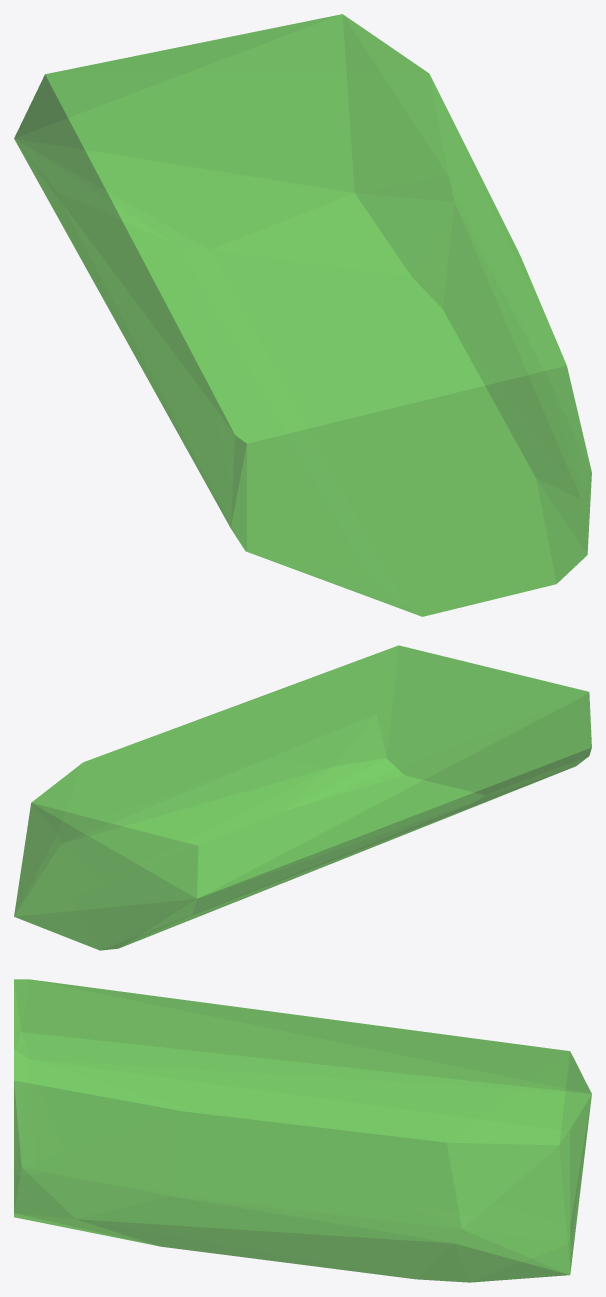
The picture shows the model from 3 angles, top to bottom: view 1: azimuth 30°, elevation 25°; view 2: azimuth 150°, elevation 25°; view 3: azimuth 270°, elevation 25°; orthographic projection. The views are drawn at different scales.
Visible parts, largest first — view 1: Shape_IndexedFaceSet.014_Shape_IndexedFaceSet.9149; view 2: Shape_IndexedFaceSet.014_Shape_IndexedFaceSet.9149; view 3: Shape_IndexedFaceSet.014_Shape_IndexedFaceSet.9149.
Part boxes in pixels (x1,y1,x2,y2): Shape_IndexedFaceSet.014_Shape_IndexedFaceSet.9149: (14,14,591,616); Shape_IndexedFaceSet.014_Shape_IndexedFaceSet.9149: (14,645,591,950); Shape_IndexedFaceSet.014_Shape_IndexedFaceSet.9149: (14,979,591,1282).
Bounding box in the file's own units: 0.145 × 0.0537 × 0.2009.
